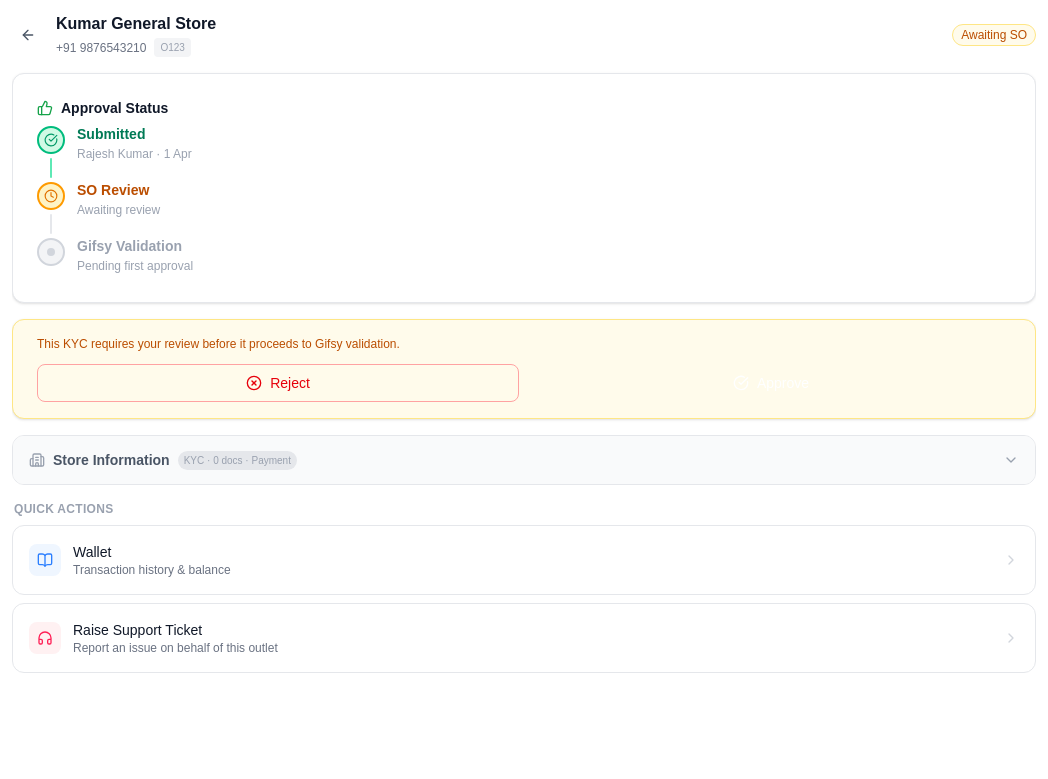
Test case: SPV — Sales KYC verified-on-parent badge › SPV1: parent-verified fields show the badge (details opened manually)
Expected: the heading "Kumar General Store" is shown, top-left (56, 15), bottom-right (216, 32)
Click the button "Store Information KYC · 0 docs · Payment" at (111,460), box top-left (13, 436), bottom-right (1035, 484)
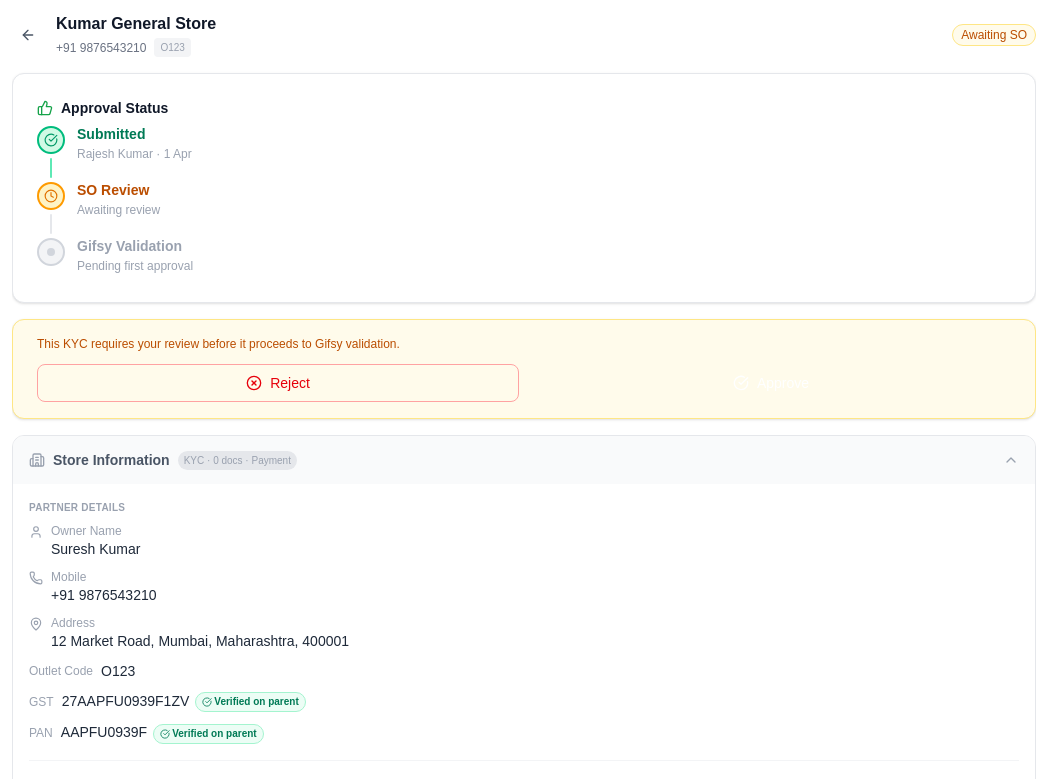
Expected: the number of elements with test id "verified-on-parent-badge" is 2, top-left (195, 692), bottom-right (306, 712); top-left (153, 724), bottom-right (264, 744)
